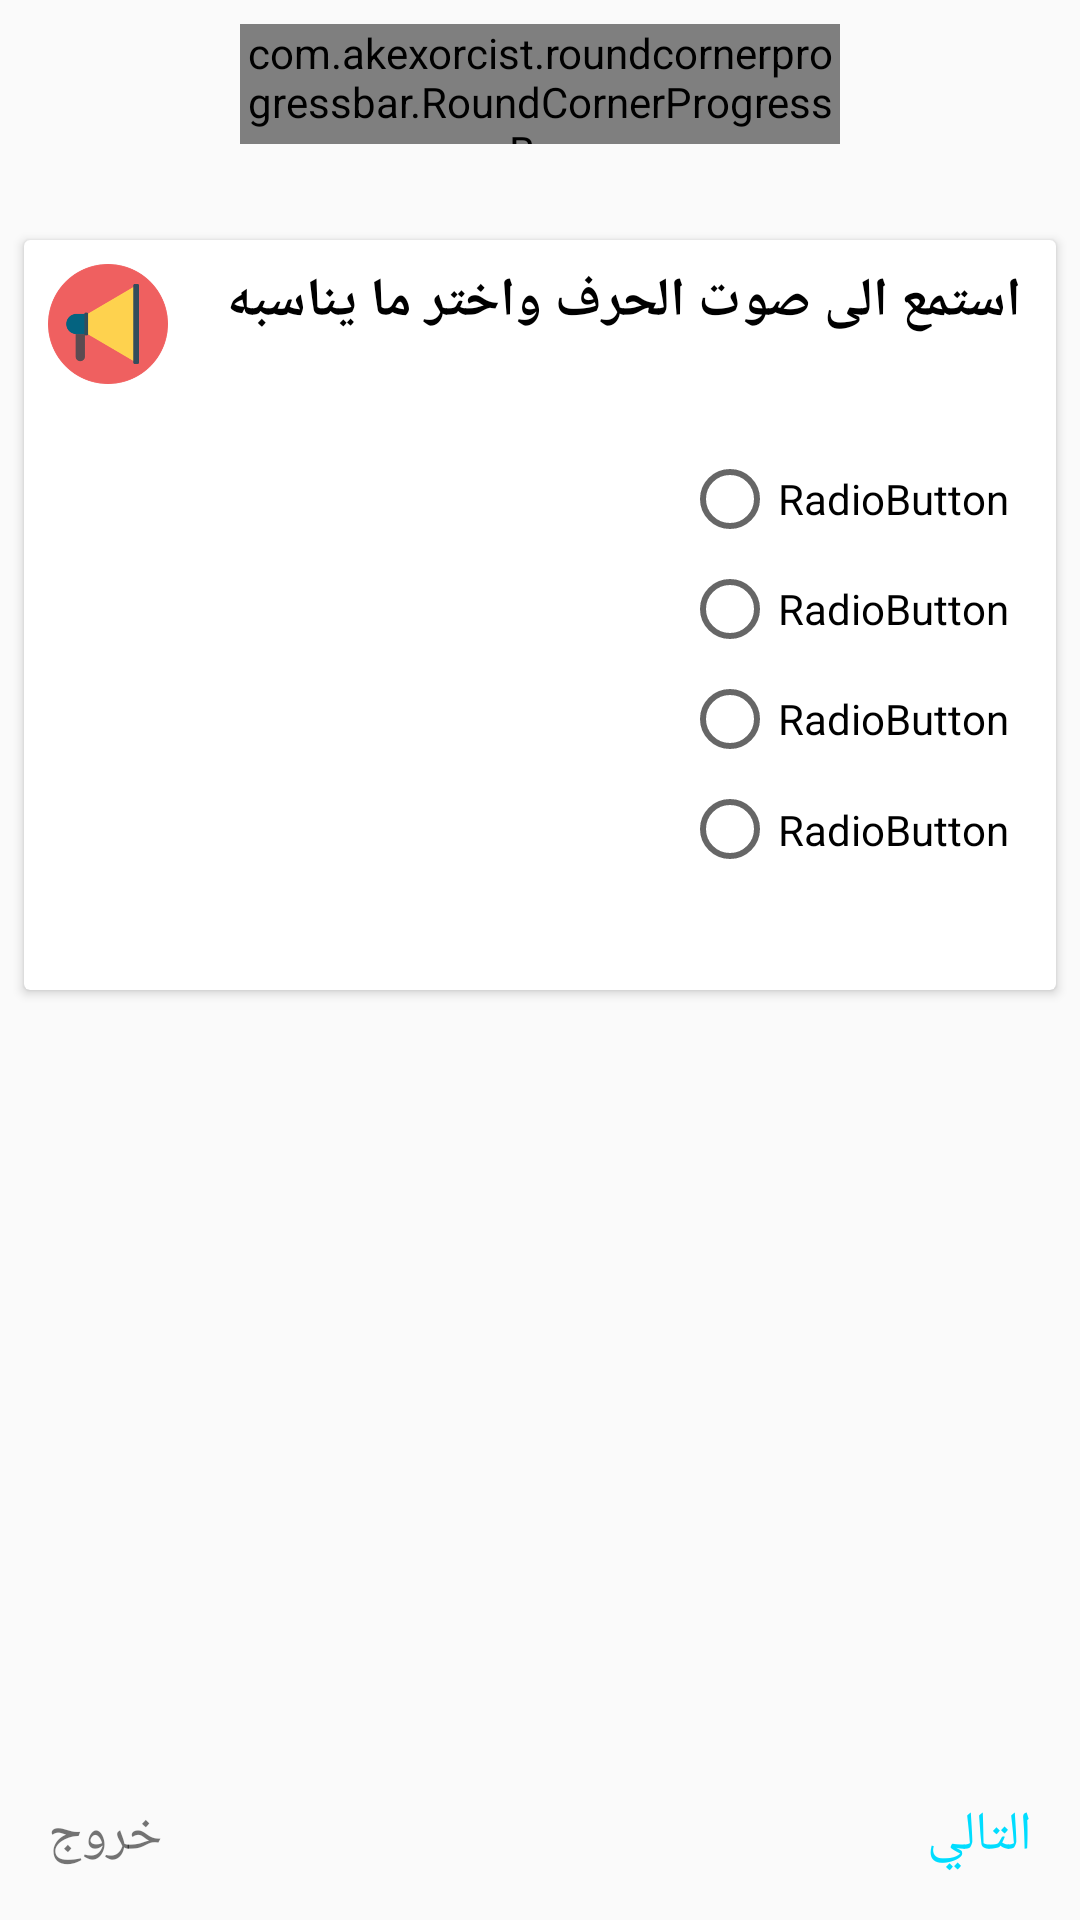

Icon click points for this 1080*1920 phone screenshot, format [x,y]:
sound: [108,324]
